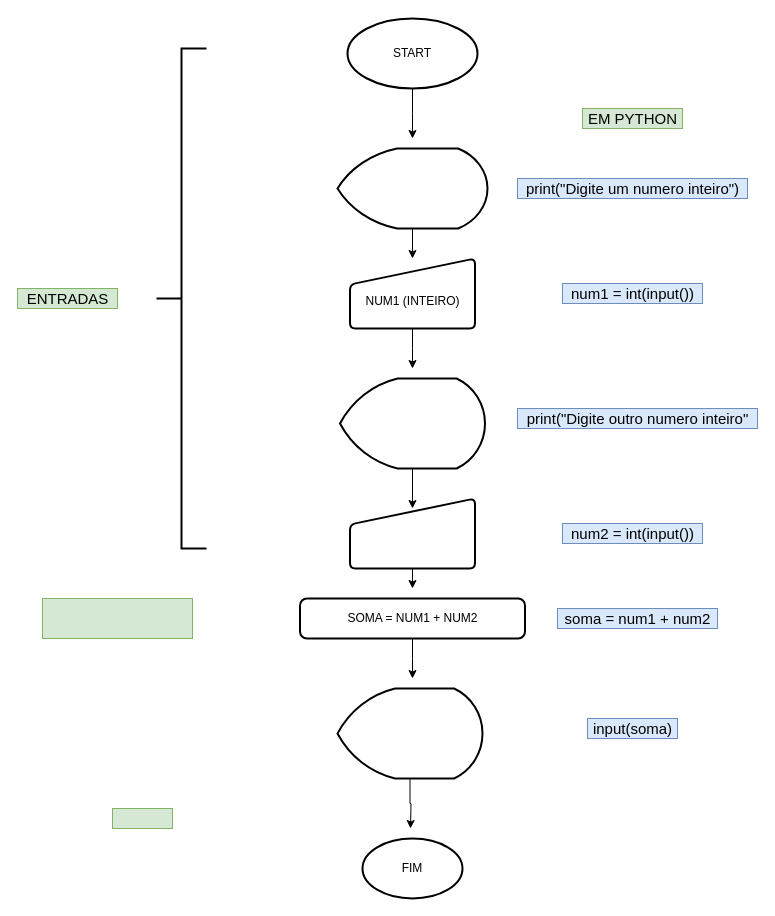
This 775x916 diagram has some shape labels left out. The shapes that lost their labels are listed below. From the top down, each one's centre as x and y in pixels, then its label:
point 412,188: DIGITE UM NUMERO INTEIRO
point 412,423: "DIGITE OUTRO NUMERO INTEIRO"
point 412,533: NUM2 (INTEIRO)
point 117,618: PROCESSAMENTO
point 409,733: SOMA
point 142,818: SAIDA
